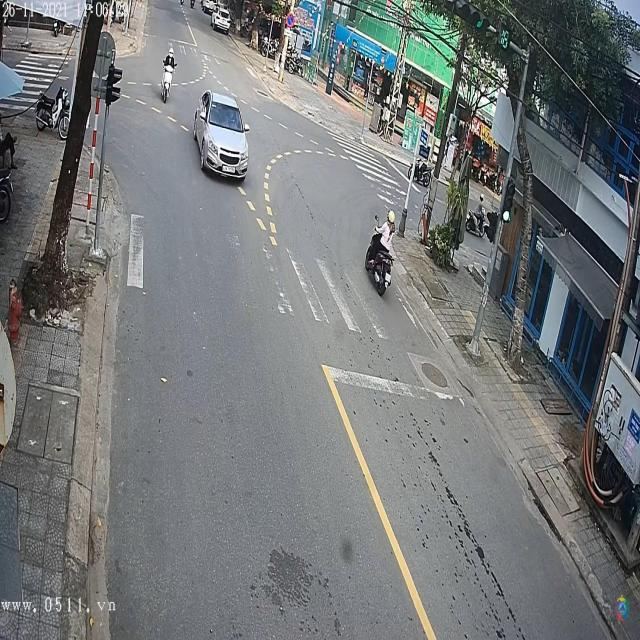car: (193, 90, 251, 182)
motorcycle: (367, 252, 393, 297), (160, 61, 175, 108)
